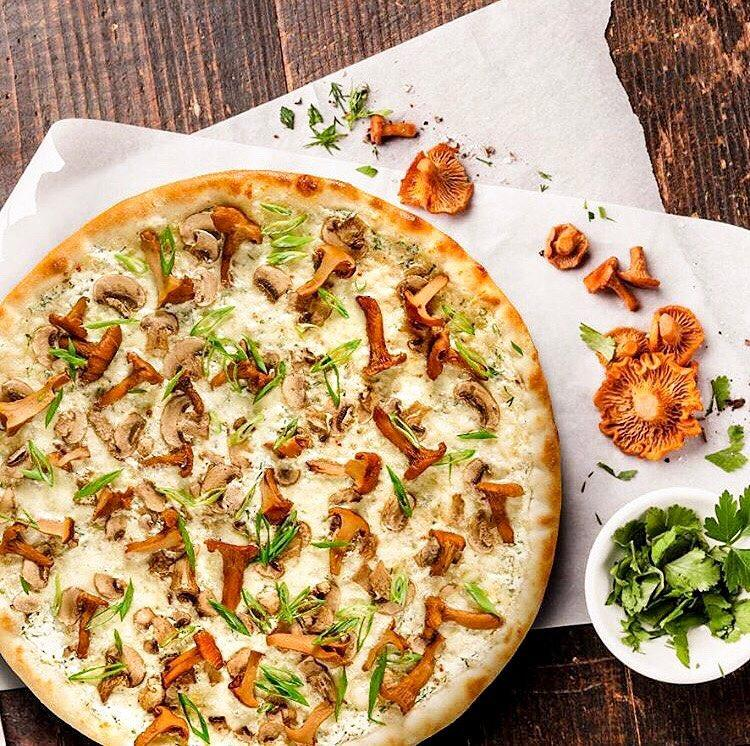Mushroom: (587, 351, 707, 464), (376, 630, 446, 717), (372, 404, 450, 482), (400, 142, 477, 219), (348, 290, 410, 380), (633, 302, 710, 369), (132, 228, 196, 308), (48, 320, 126, 385), (208, 203, 263, 295), (308, 449, 383, 512), (415, 594, 505, 646), (204, 532, 259, 615), (388, 261, 455, 329), (262, 626, 364, 669), (90, 352, 165, 410), (206, 697, 294, 745), (320, 503, 377, 576), (187, 450, 255, 511), (160, 630, 223, 695), (0, 372, 58, 438), (294, 243, 357, 302), (155, 394, 218, 453), (122, 505, 187, 561), (473, 478, 526, 546), (584, 254, 643, 315), (0, 524, 64, 579), (450, 375, 504, 440), (92, 644, 147, 707), (210, 346, 279, 392), (406, 320, 454, 386), (589, 326, 654, 374), (87, 406, 147, 458), (132, 603, 190, 655), (89, 481, 142, 537), (278, 343, 321, 411), (222, 644, 267, 708), (72, 590, 112, 660), (254, 464, 297, 529), (294, 579, 342, 637), (310, 208, 370, 254), (542, 219, 592, 273), (128, 701, 188, 746), (356, 622, 406, 673), (14, 506, 80, 544), (82, 271, 145, 310), (364, 110, 426, 149), (426, 525, 469, 581), (133, 305, 180, 356), (617, 243, 661, 297), (160, 334, 209, 382), (0, 436, 37, 497), (28, 323, 68, 378), (51, 290, 93, 341), (162, 551, 200, 606), (168, 364, 208, 416), (288, 699, 332, 746), (298, 656, 341, 703), (140, 442, 197, 476), (173, 222, 222, 259), (251, 255, 286, 304), (51, 407, 95, 445), (467, 508, 501, 556), (4, 584, 44, 624), (44, 441, 92, 474), (187, 265, 222, 310), (50, 582, 85, 625), (267, 426, 309, 461), (361, 561, 393, 605), (461, 456, 490, 504), (94, 568, 129, 607), (252, 555, 287, 587), (138, 673, 163, 713), (254, 582, 284, 614), (192, 586, 218, 617)
Pizza: (0, 168, 564, 746)
